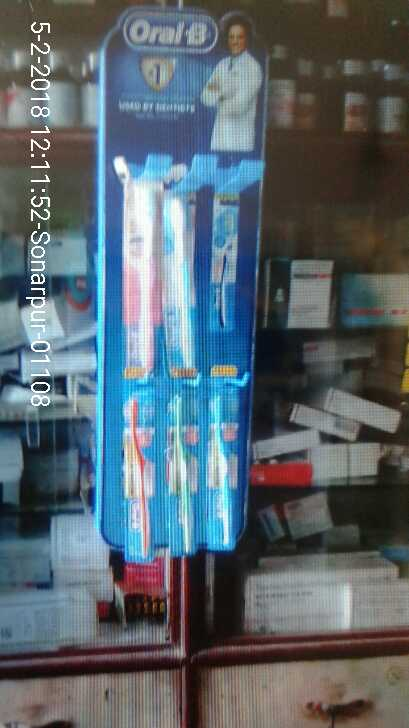oralb: (119, 166, 163, 383), (161, 170, 200, 384), (121, 382, 164, 562), (164, 384, 202, 555), (209, 358, 240, 553)
